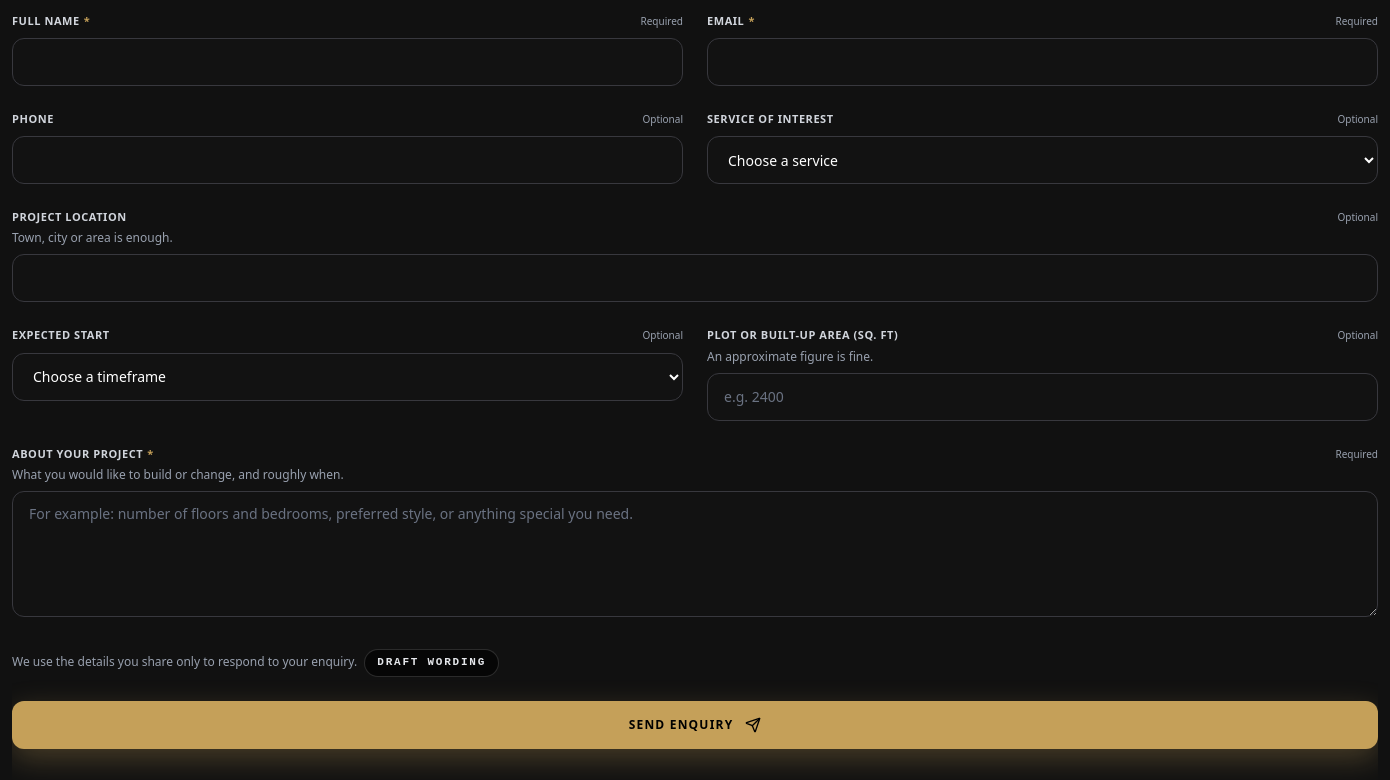
Test case: enquiry form › shows text errors for missing required fields and focuses the first one
This screenshot has width=1390, height=780.
Click the button "Send enquiry": point(695, 725) 12,701 -> 1378,749
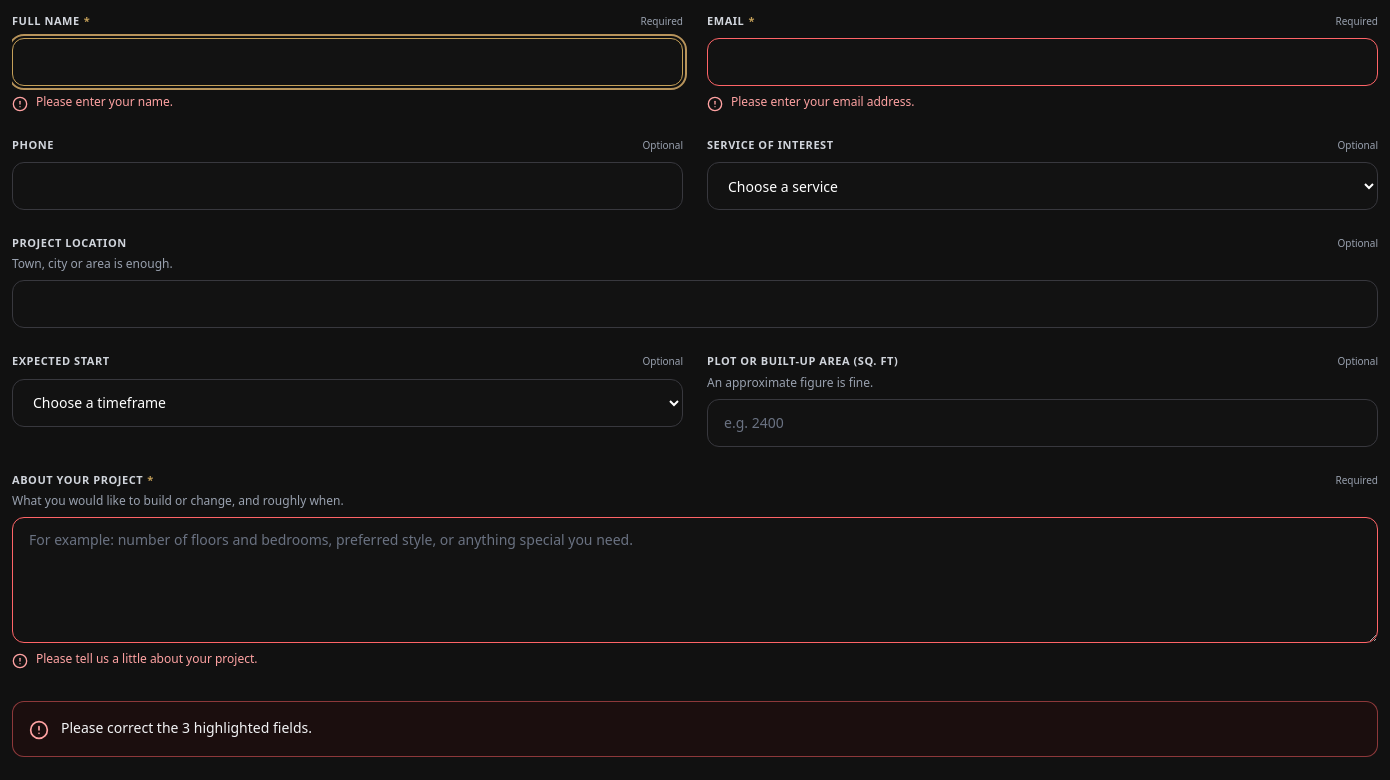
Now the message shows "correct the 3 highlighted fields", box 61,718 -> 312,737
